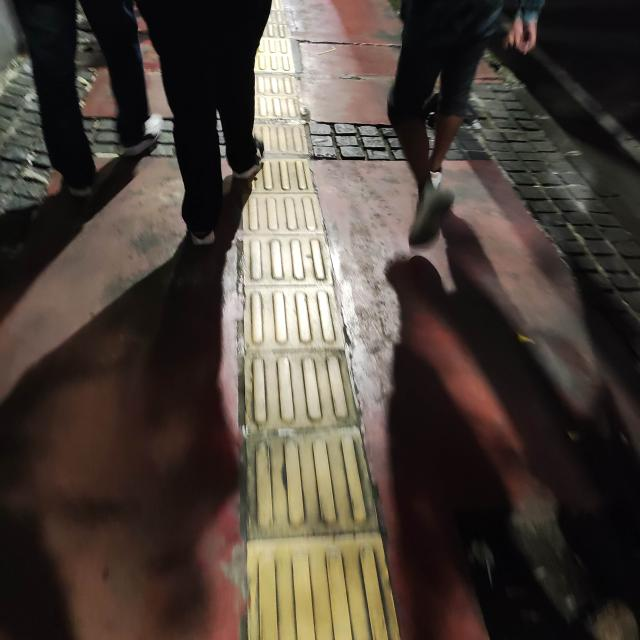lurus: (219, 159, 397, 640)
